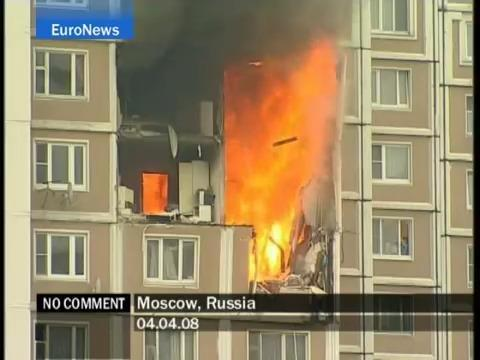fire: (225, 41, 332, 275), (144, 173, 170, 216)
